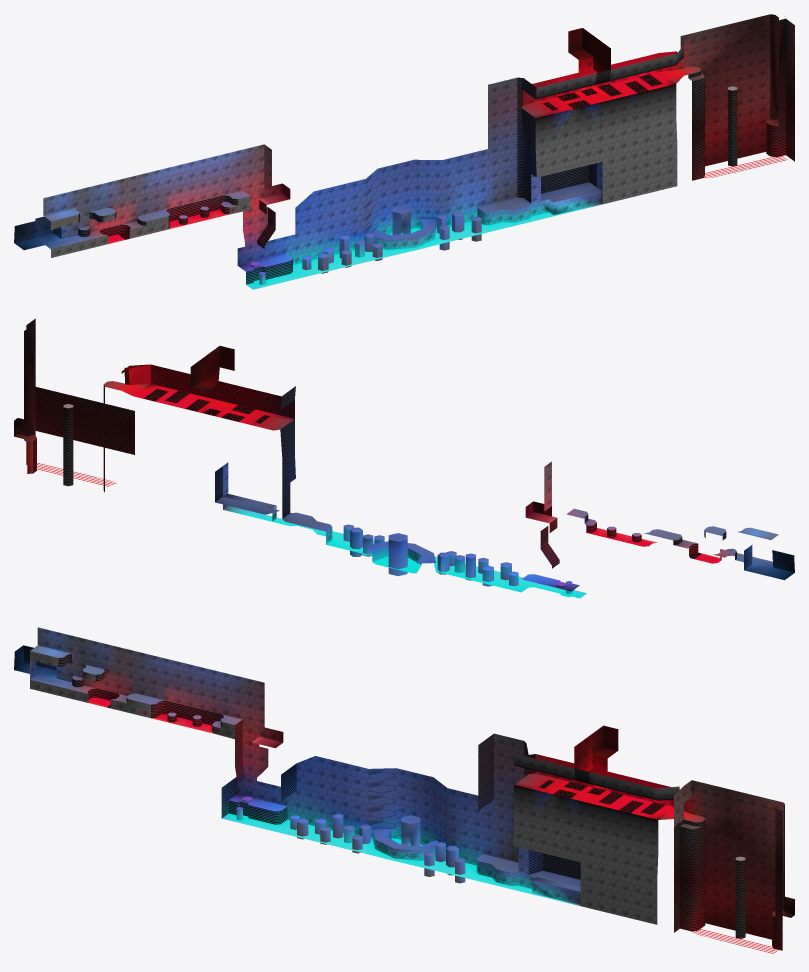
Rendered from level7.glb.
3 views of the same model, one above another, from view 1: azimuth 30°, elevation 25°; view 2: azimuth 150°, elevation 25°; view 3: azimuth 330°, elevation 25° (orthographic). The views are drawn at different scales.
Parts seen in each view (by area): view 1: stage7; view 2: stage7; view 3: stage7.
Part boxes in pixels (box(x1,y1,x2,y2)): stage7: box(14, 14, 794, 289); stage7: box(14, 318, 794, 598); stage7: box(14, 627, 794, 953).
Size of the model in its own units: 131 by 26.95 by 9.08.
7 materials, 6 textured.
